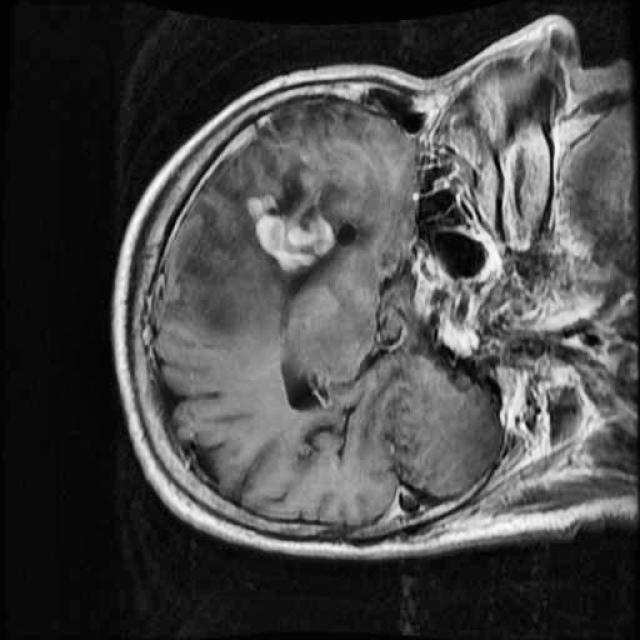Tumor: (228, 168, 362, 284)
